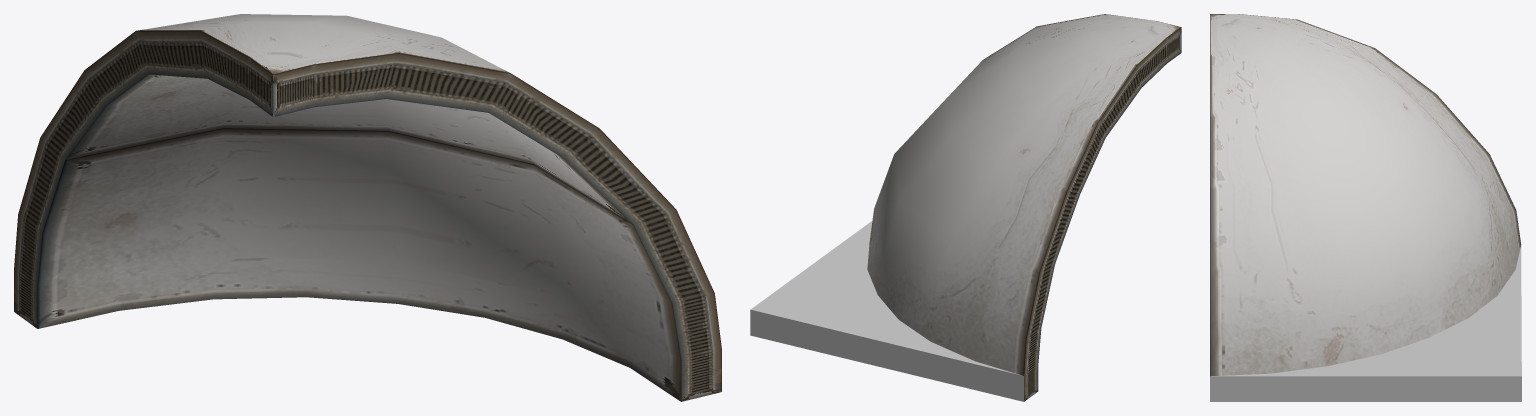
The model's file is scifi_wall_top2_curve6_1.FBX.
The picture shows the model from 3 angles, left to right: view 1: azimuth 30°, elevation 25°; view 2: azimuth 150°, elevation 25°; view 3: azimuth 270°, elevation 25°; orthographic projection. The views are drawn at different scales.
Visible parts, largest first — view 1: Plane366; view 2: Plane366; view 3: Plane366.
Part boxes in pixels (bbox=[...]): Plane366: bbox=[14, 14, 721, 401]; Plane366: bbox=[750, 14, 1181, 401]; Plane366: bbox=[1210, 14, 1521, 401].
Bounding box in the file's own units: 280 × 254 × 280.
